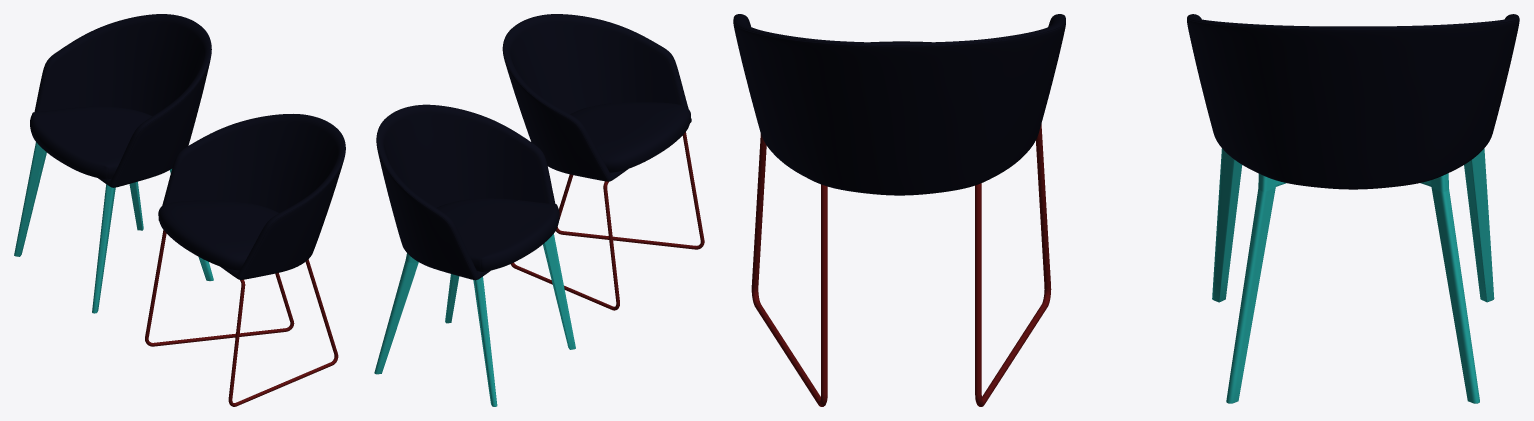
File: Capdell Moon chair.fbx
3 renders of one model, left to right at view 1: azimuth 30°, elevation 25°; view 2: azimuth 150°, elevation 25°; view 3: azimuth 270°, elevation 25°, orthographic. The views are drawn at different scales.
Visible parts, largest first — view 1: Moon_Back002, Moon_Back001, Moon_seat001, Box003, Capdell_MOON_663MD005, Line002; view 2: Moon_Back002, Moon_Back001, Moon_seat001, Box003, Capdell_MOON_663MD005, Line002; view 3: Moon_Back002, Moon_Back001, Capdell_MOON_663MD005, Line002.
Part boxes in pixels (x1,y1,x2,y2): Moon_Back002: (34,14,211,187); Moon_Back001: (158,114,345,279); Moon_seat001: (30,106,152,179); Box003: (158,200,278,270); Capdell_MOON_663MD005: (14,142,213,313); Line002: (145,230,338,406); Moon_Back002: (376,104,555,280); Moon_Back001: (502,14,691,181); Moon_seat001: (436,198,559,271); Box003: (570,102,690,172); Capdell_MOON_663MD005: (374,234,575,406); Line002: (510,132,704,310); Moon_Back002: (1187,14,1519,189); Moon_Back001: (733,14,1065,195); Capdell_MOON_663MD005: (1212,148,1494,403); Line002: (751,124,1051,406).
Size of the model in its own units: 54.21 by 76.11 by 138.
